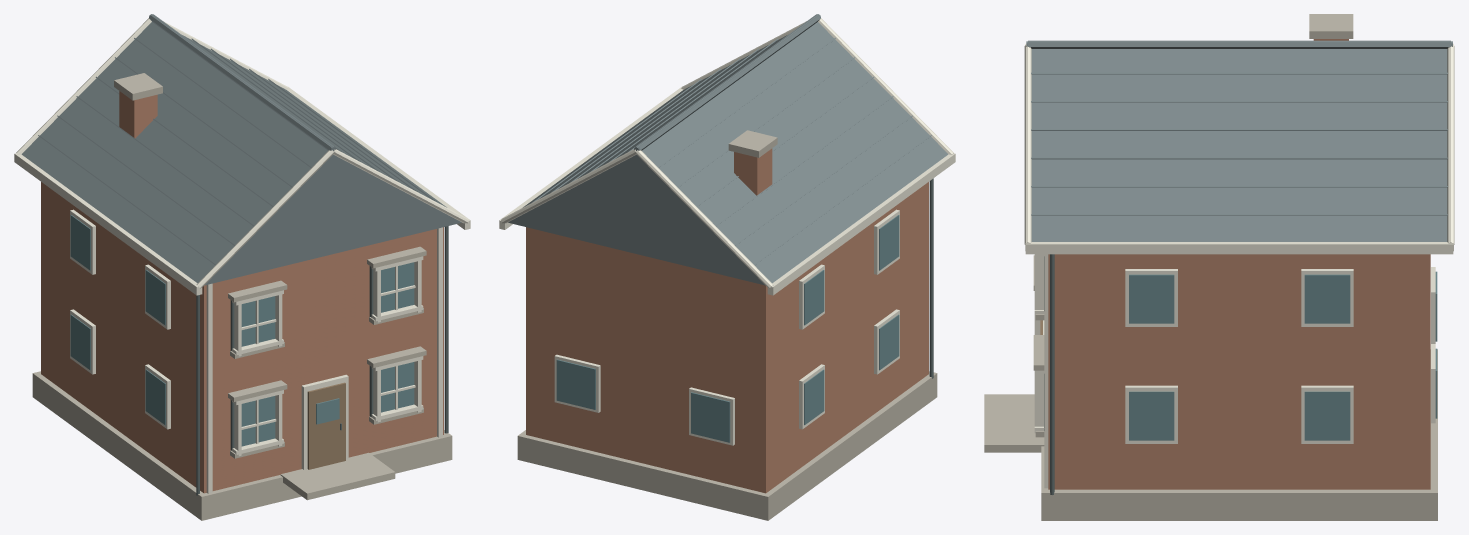
The picture shows the model from 3 angles, left to right: view 1: azimuth 30°, elevation 25°; view 2: azimuth 150°, elevation 25°; view 3: azimuth 270°, elevation 25°; orthographic projection. The views are drawn at different scales.
Bounding box in the file's own units: 7.76 × 9.42 × 9.84.
